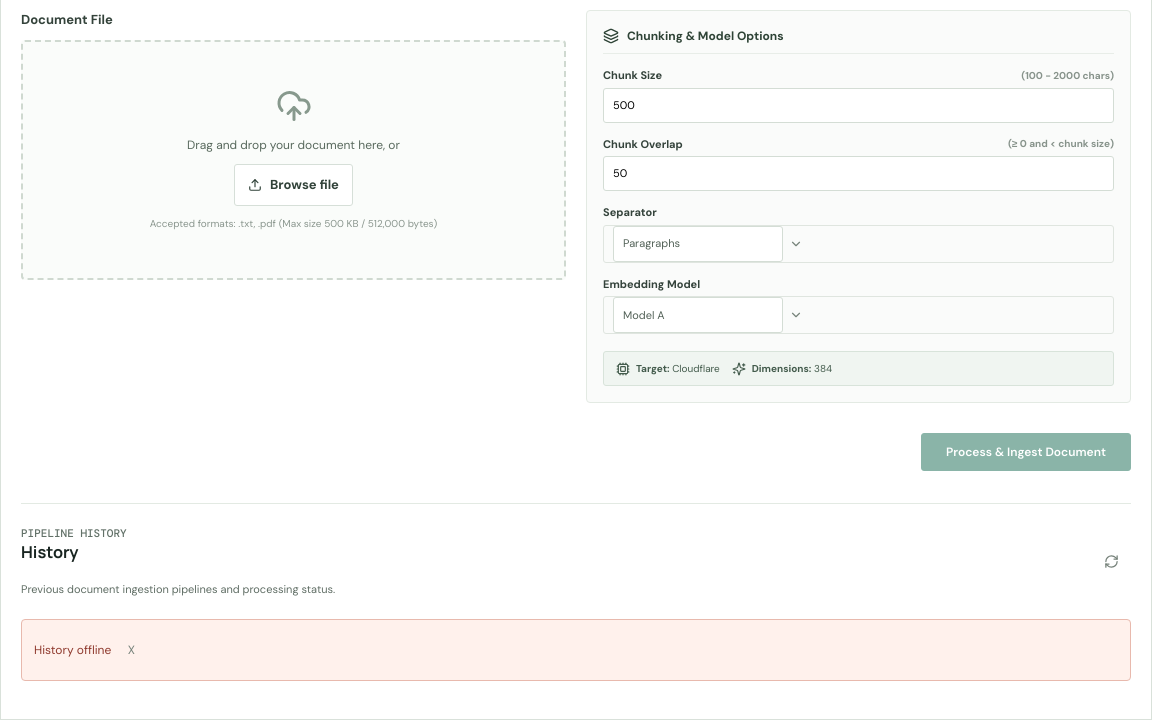
IngestionView › reports ingestion history failures and clears them
(page scrolled)
expect the text "History offline" is shown: met, box x1=34 y1=642 x2=111 y2=658
What coordinates should you click on to do the following:
click the button named "Dismiss error"
I would click on:
 (131, 650)
Its box is x1=111 y1=630 x2=151 y2=670.
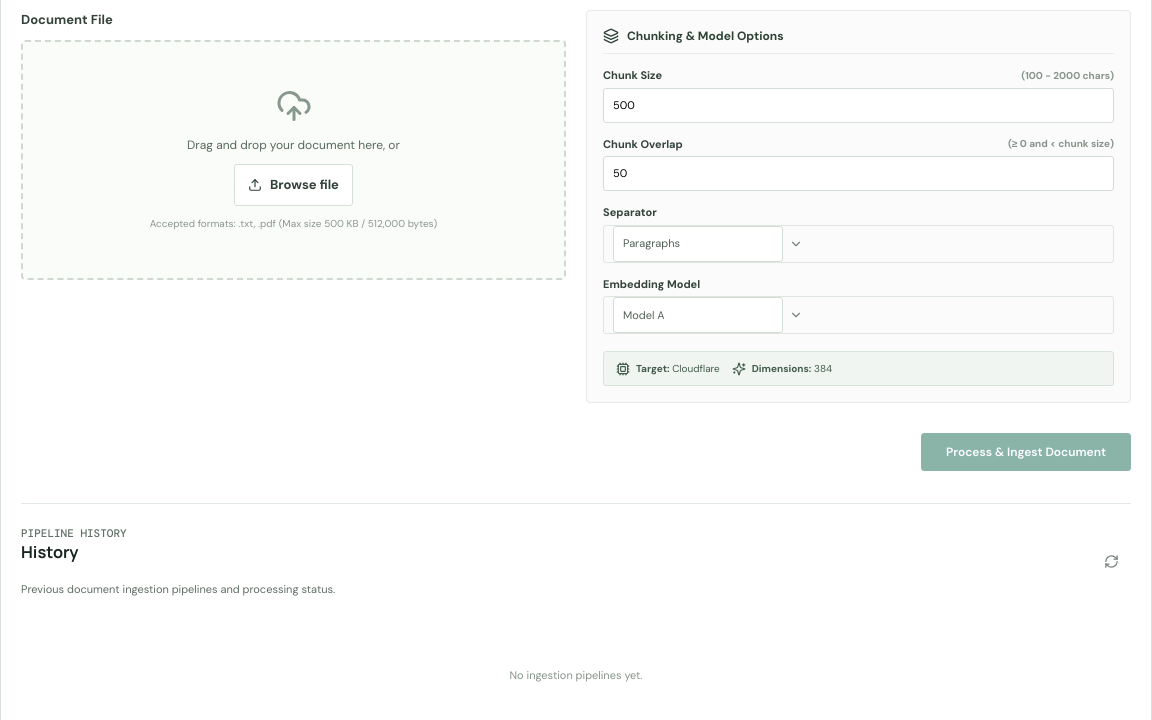
expect the text "History offline" is gone: met
